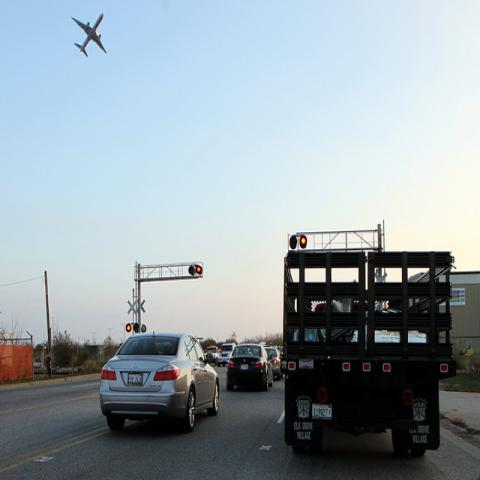car: (99, 332, 221, 439), (226, 342, 274, 390), (264, 346, 282, 380), (217, 342, 236, 363), (204, 346, 219, 366), (279, 345, 283, 351)
truck: (284, 251, 456, 460)
